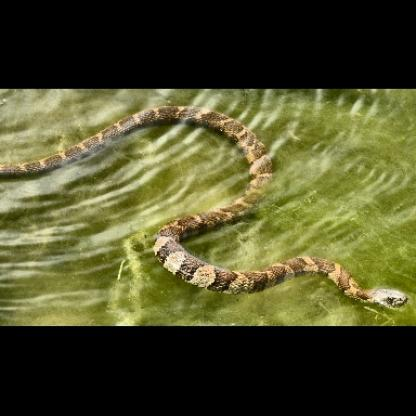Snake: (12, 103, 413, 298)
